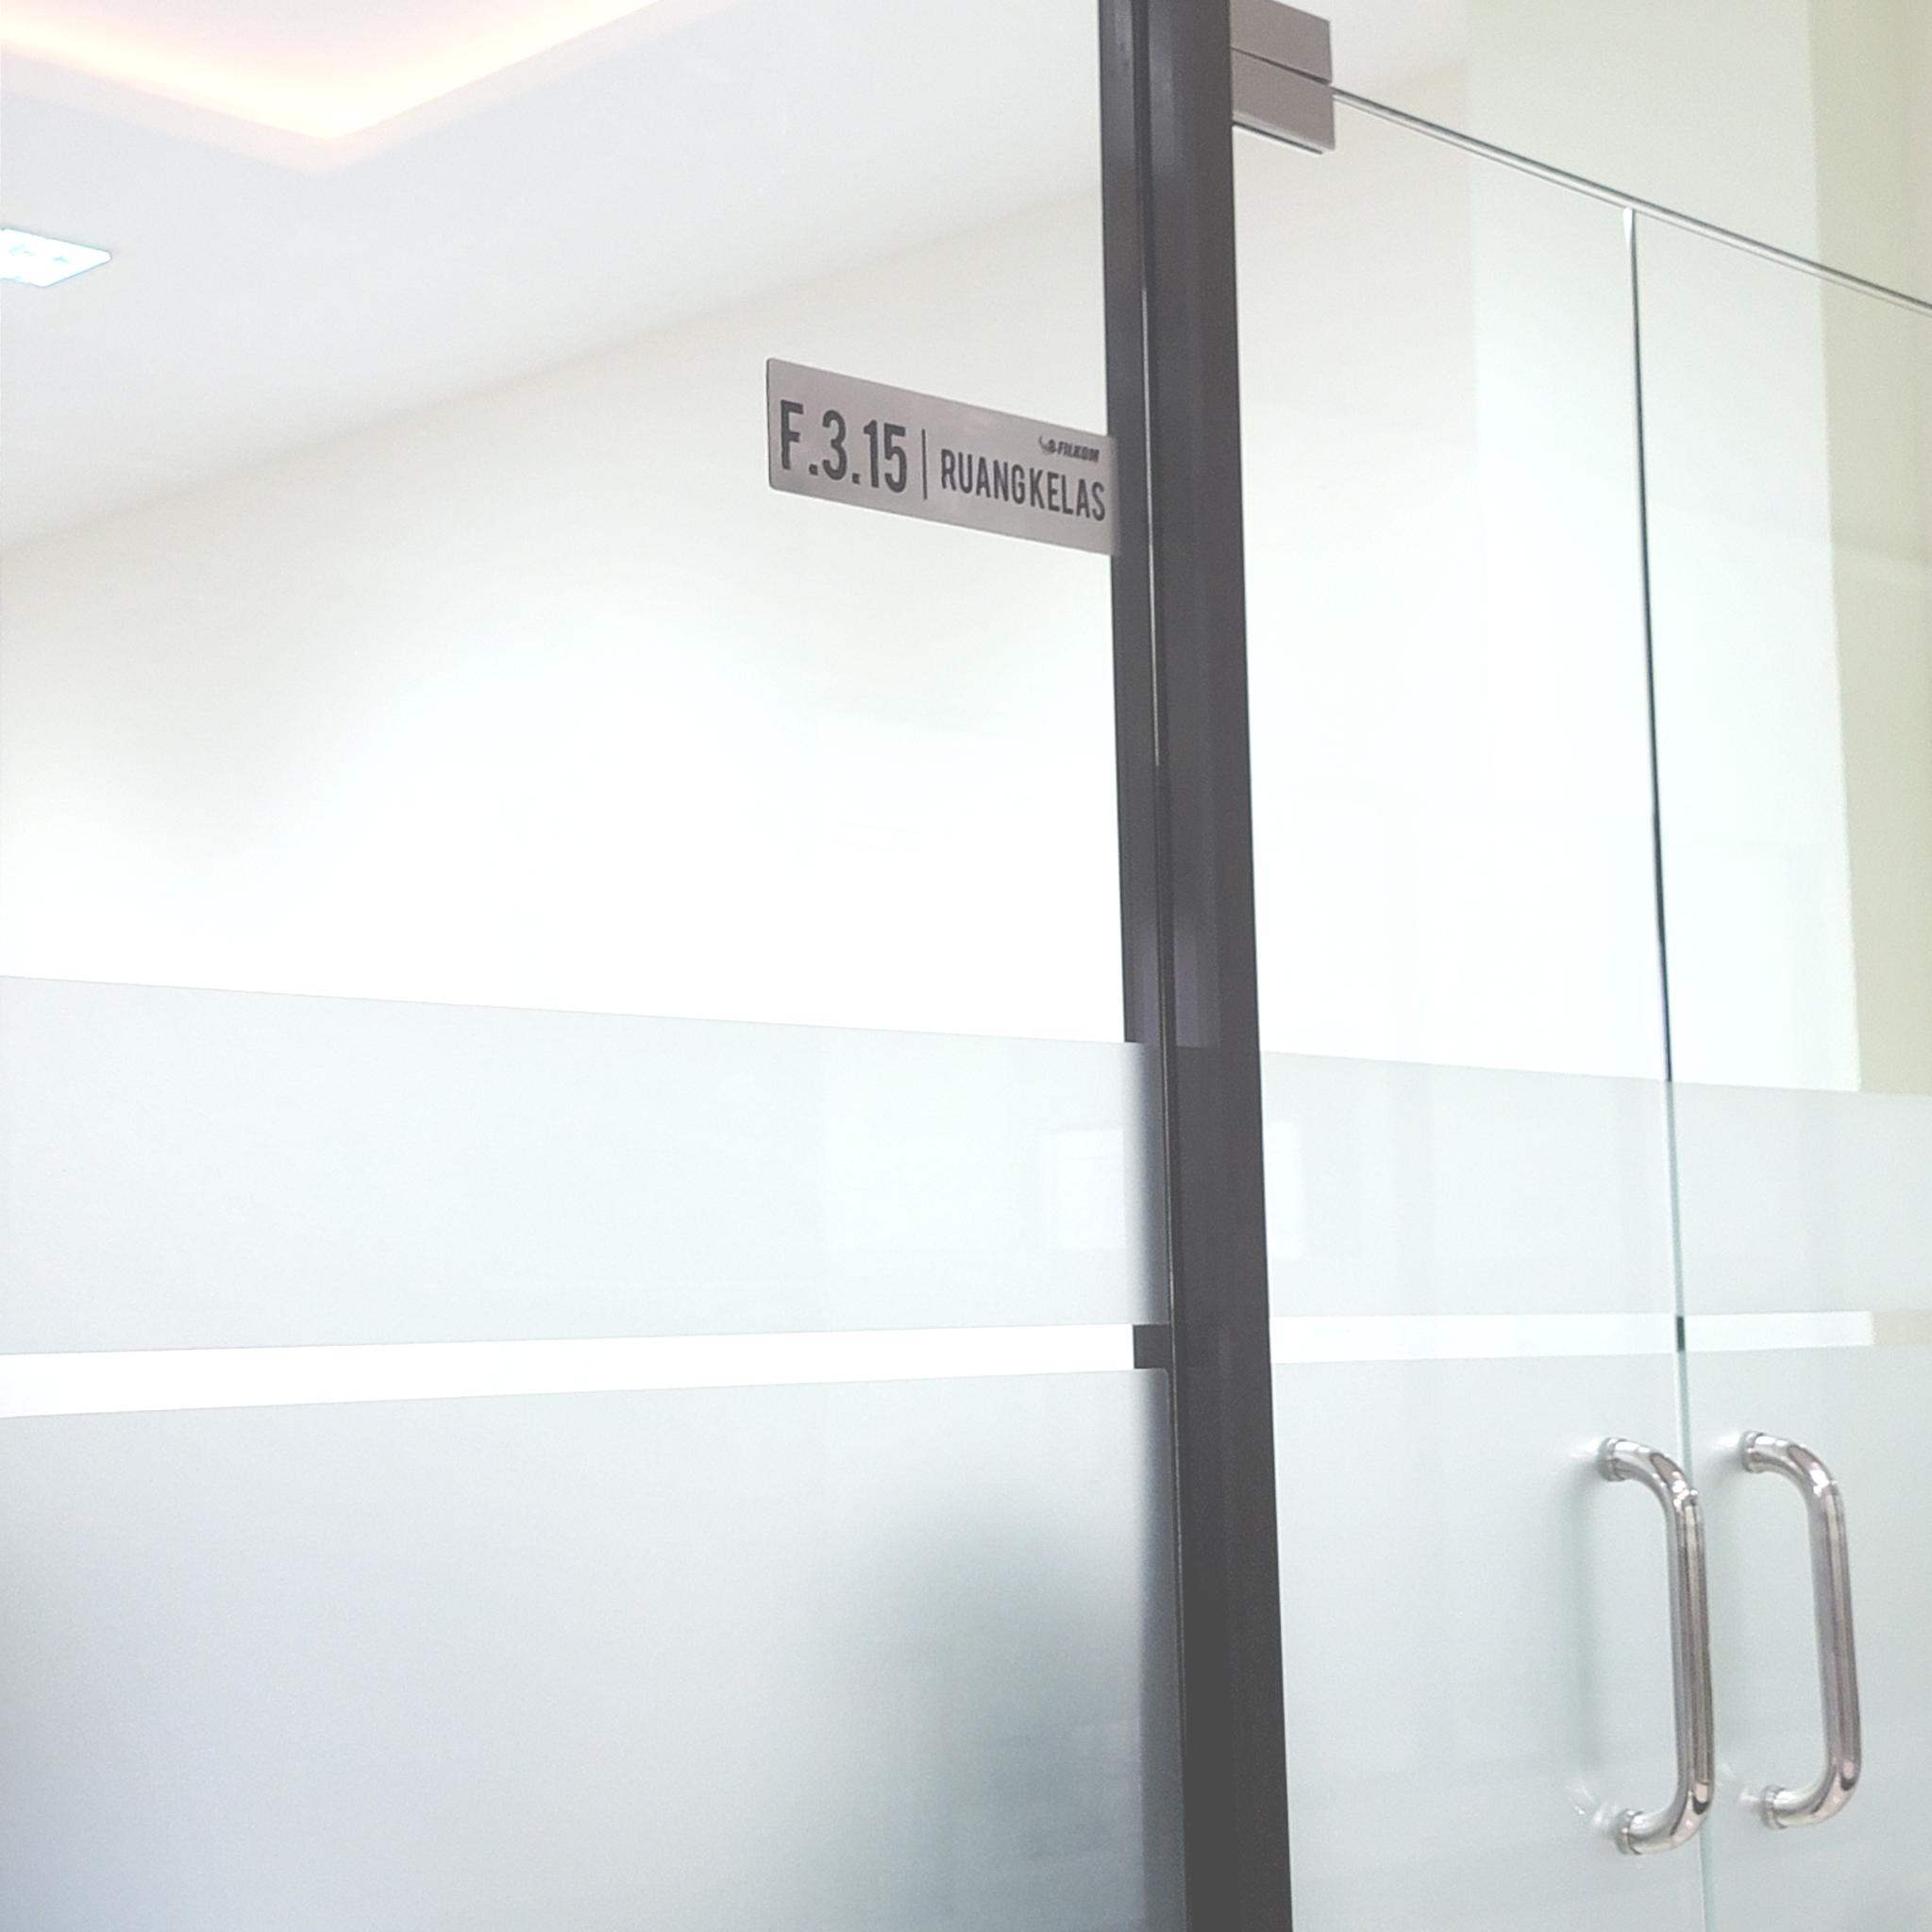plate: (766, 357, 1123, 559)
